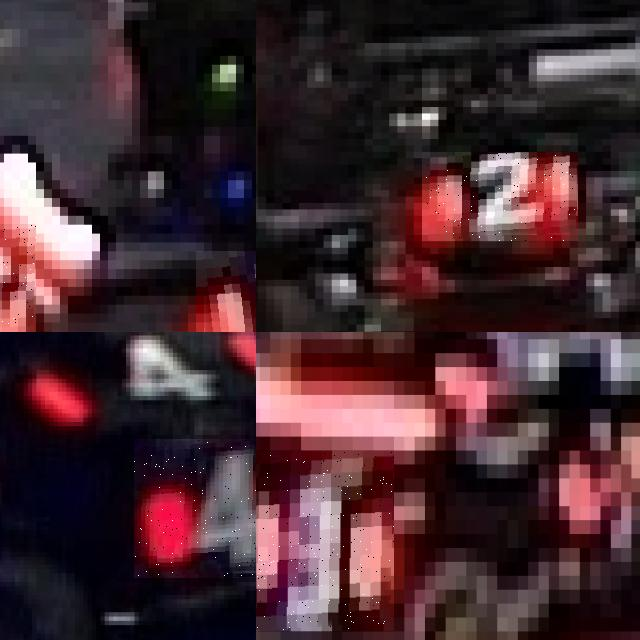R2: (422, 152, 578, 241)
R3: (256, 450, 393, 631)
R4: (134, 439, 256, 577)
R5: (196, 251, 256, 332), (0, 224, 36, 332)
